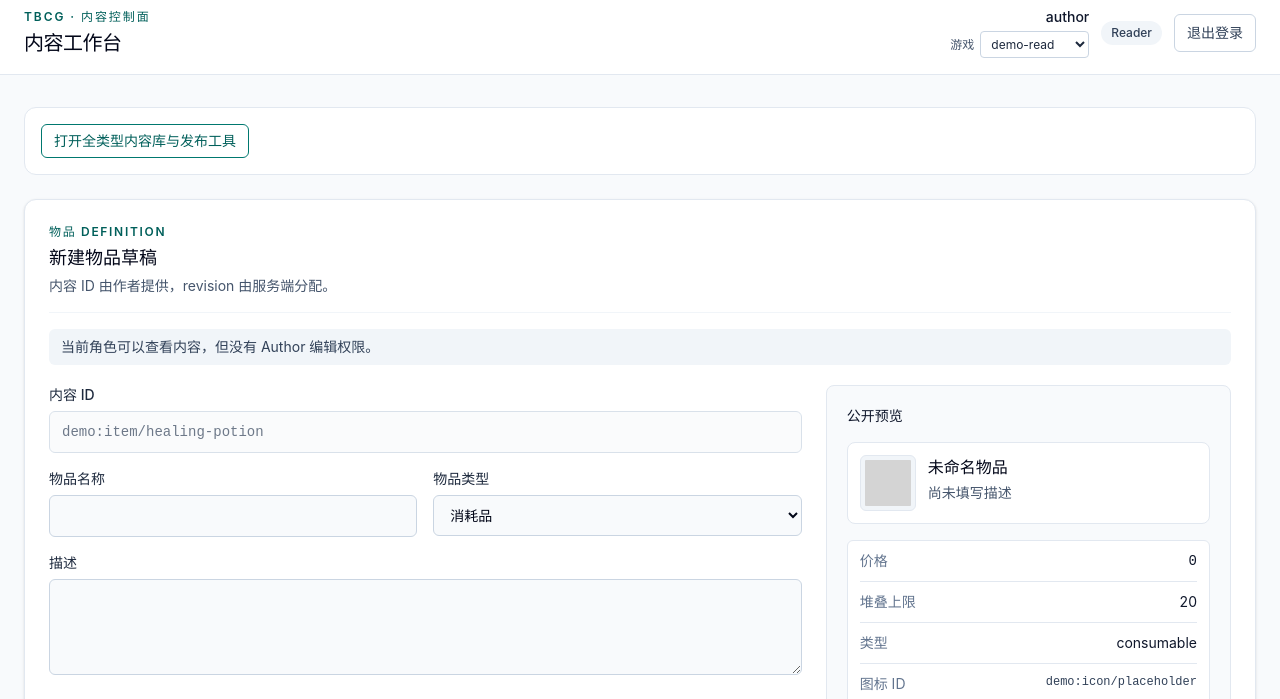
it: App › switches the editor authorization scope between Game-bound roles
Expected: the button "保存草稿" is not shown
Select "demo-author" in the dropdown labelled "游戏" at (1035, 44), box [980,31,1089,58]
(page scrolled)
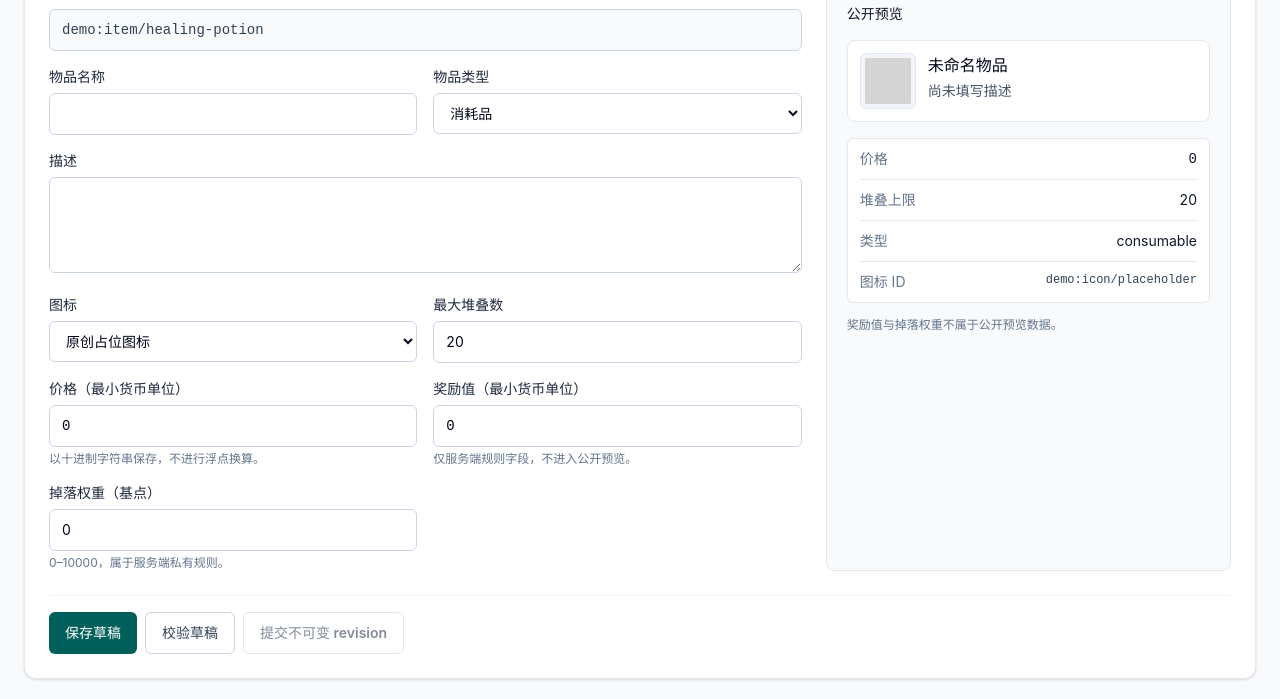
Expected: the button "保存草稿" is shown, [49,612,137,654]
